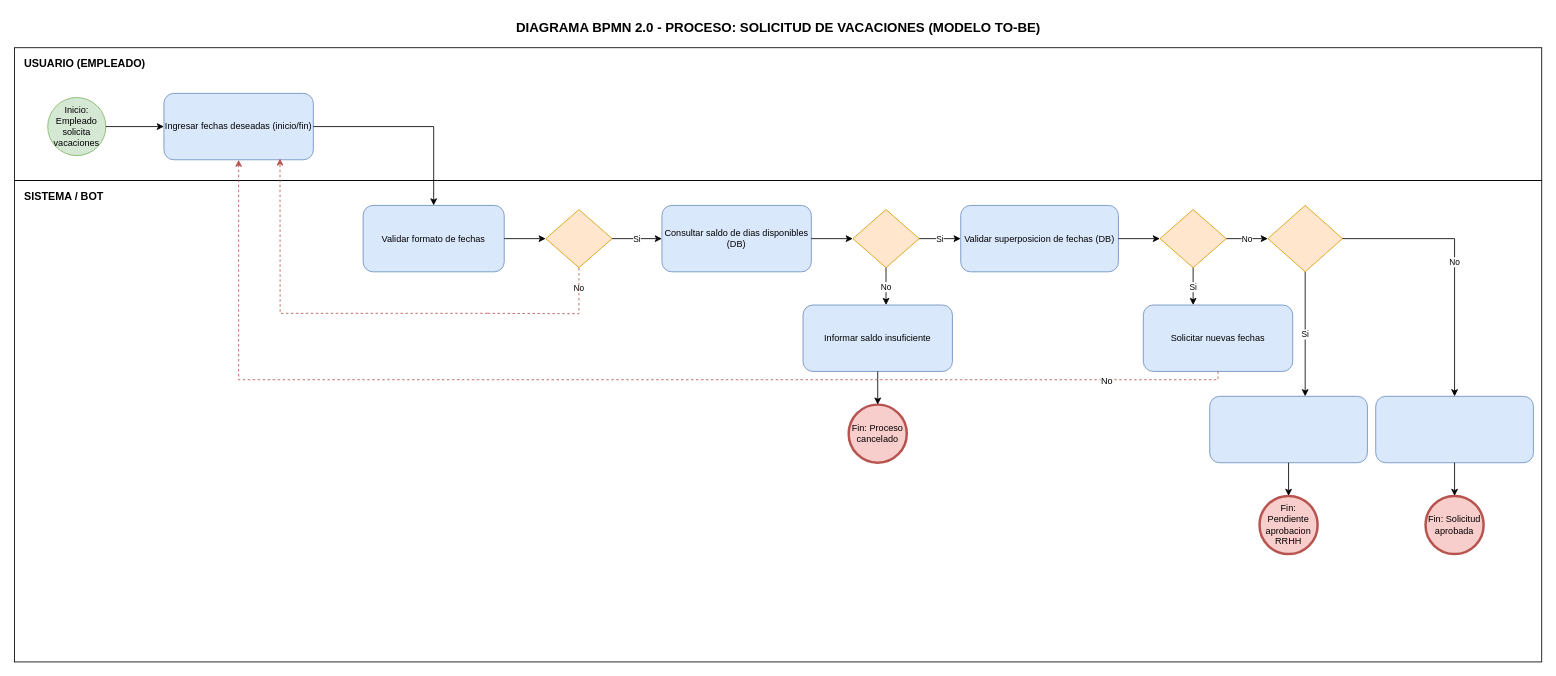
Image size: 1556x676. Some labels were removed from this diagram. Here are the shapes that lost their labels. From the top down, the box of each, then its label:
(545, 209, 612, 268): ¿Formato válido?
(852, 209, 919, 268): ¿Saldo suficiente?
(1159, 209, 1226, 268): ¿Hay conflicto?
(1267, 205, 1343, 272): ¿Dias solicitados mayor a 10?
(1209, 395, 1367, 463): Derivar a RRHH para aprobacion manual
(1375, 395, 1533, 463): Aprobar automaticamente y actualizar saldo (DB)
